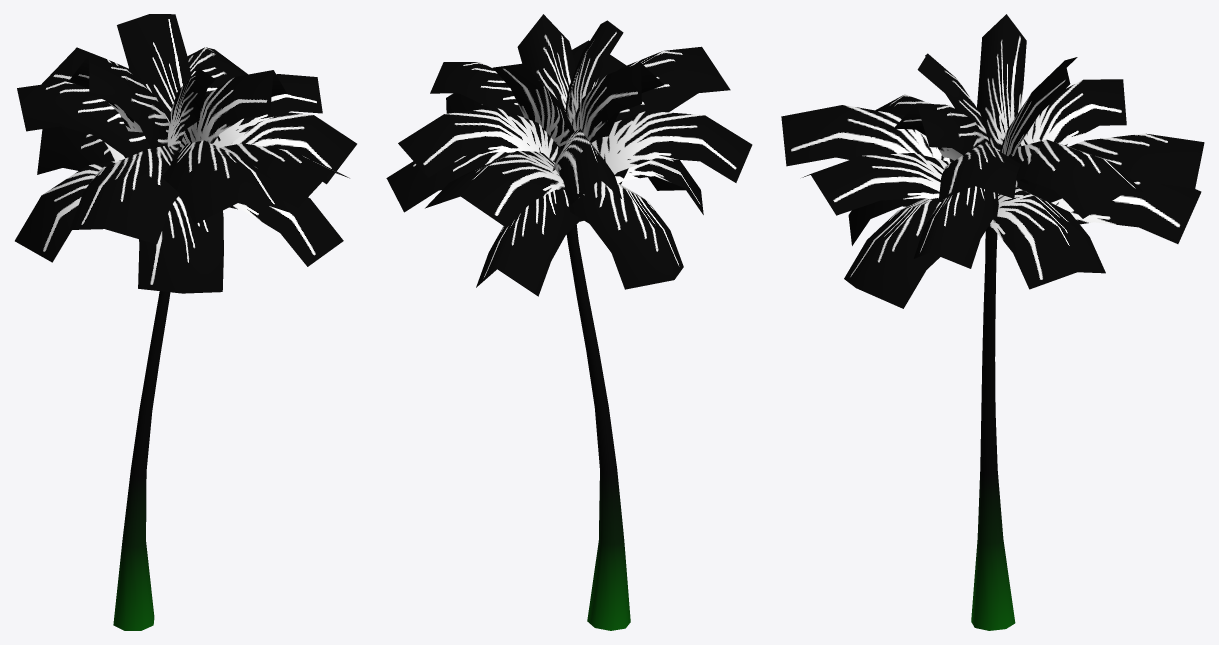
File: P_CoconutPalm04.obj
3 renders of one model, left to right at view 1: azimuth 30°, elevation 25°; view 2: azimuth 150°, elevation 25°; view 3: azimuth 270°, elevation 25°, orthographic. The views are drawn at different scales.
Bounding box in the file's own units: 6.57 × 12.46 × 8.1.
